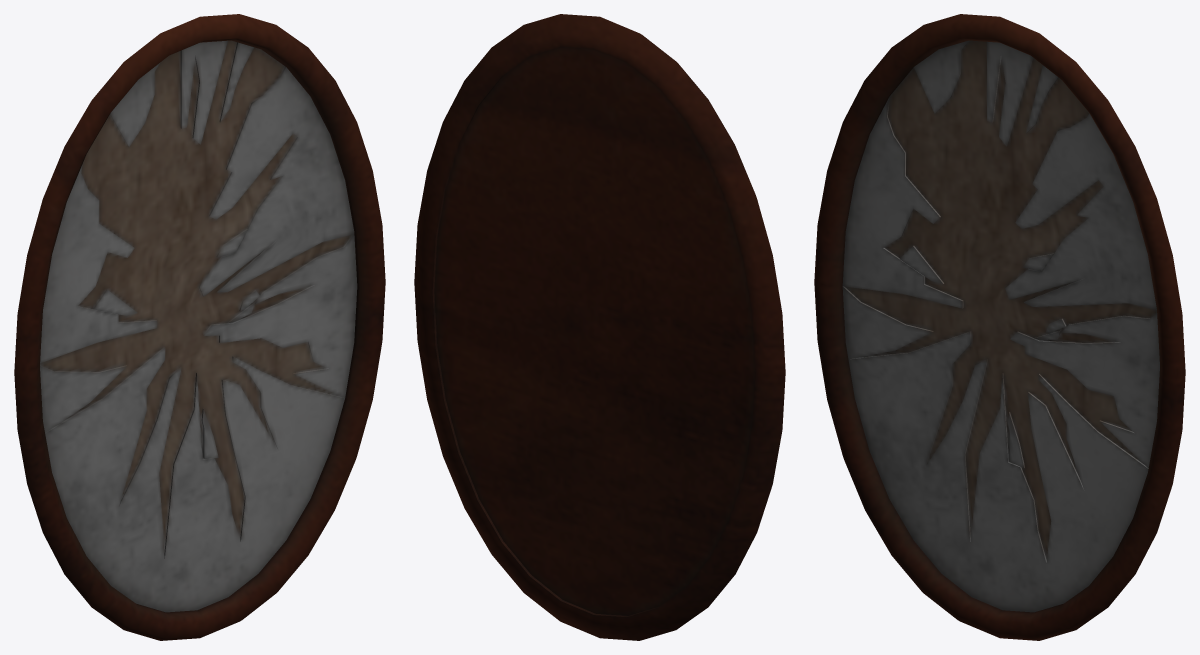
Rendered from Broken_Mirror_01.fbx.
The picture shows the model from 3 angles, left to right: view 1: azimuth 30°, elevation 25°; view 2: azimuth 150°, elevation 25°; view 3: azimuth 330°, elevation 25°; orthographic projection.
Parts seen in each view (by area): view 1: Broken_Mirror; view 2: Broken_Mirror; view 3: Broken_Mirror.
Boxes of the visible parts, <box> form: Broken_Mirror: <box>14,14,385,640</box>; Broken_Mirror: <box>414,14,785,640</box>; Broken_Mirror: <box>814,14,1185,640</box>.
Bounding box in the file's own units: 37.52 × 60 × 1.86.
